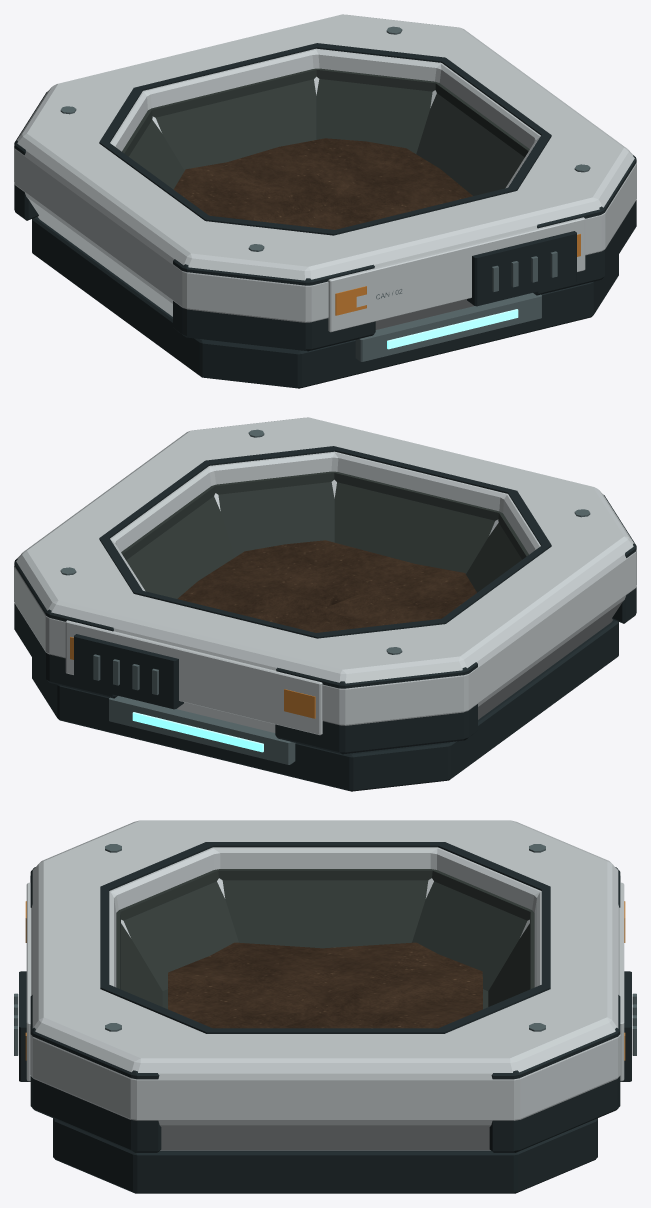
The model's file is Saksı 1x1.fbx.
3 renders of one model, top to bottom at view 1: azimuth 30°, elevation 25°; view 2: azimuth 150°, elevation 25°; view 3: azimuth 270°, elevation 25°, orthographic. The views are drawn at different scales.
Visible parts, largest first — view 1: CAN_1x1_OPEN_GAME; view 2: CAN_1x1_OPEN_GAME; view 3: CAN_1x1_OPEN_GAME.
Boxes of the visible parts, x1,y1,x2,y2 form: CAN_1x1_OPEN_GAME: (14,14,636,388); CAN_1x1_OPEN_GAME: (14,417,636,791); CAN_1x1_OPEN_GAME: (14,820,636,1193).
Size of the model in its own units: 1.95 by 0.52 by 2.06.
